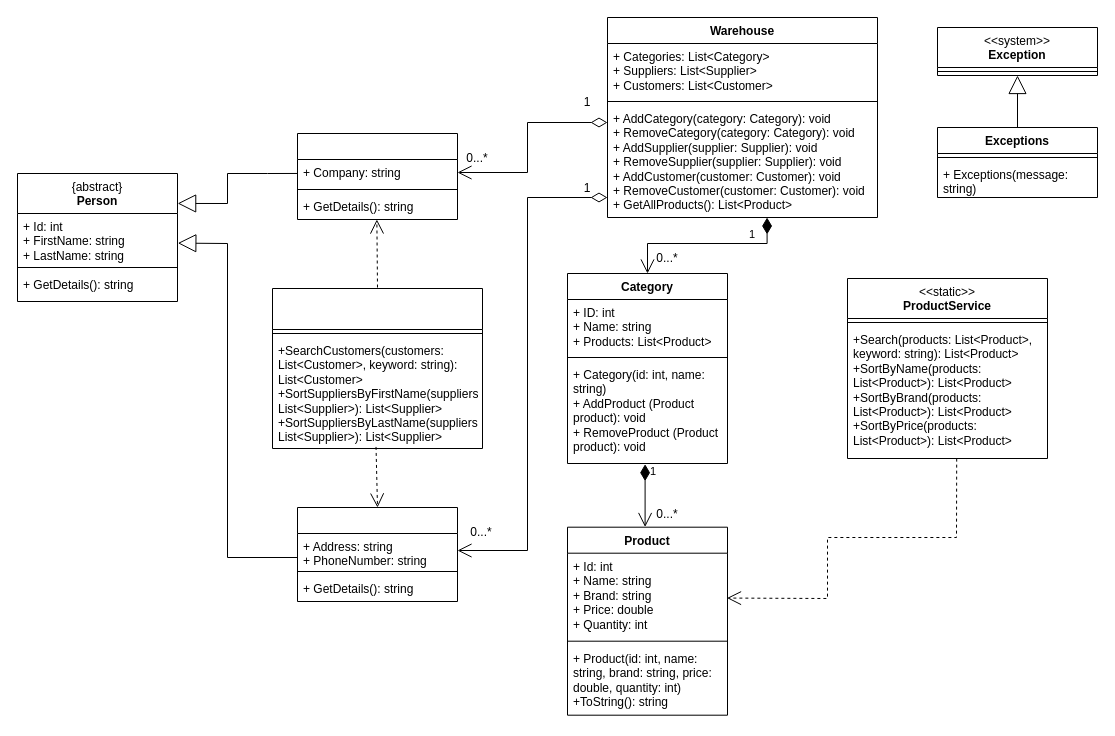
Some shapes in this 1115 by 736 pixel diagram are drawn without their labels. The box of each missing label's shape, as (x1, y1, x2, y2) in pixels:
<<static>> PartnerService: (272, 288, 482, 448)
Customer: (296, 506, 458, 602)
Supplier: (296, 132, 458, 220)
